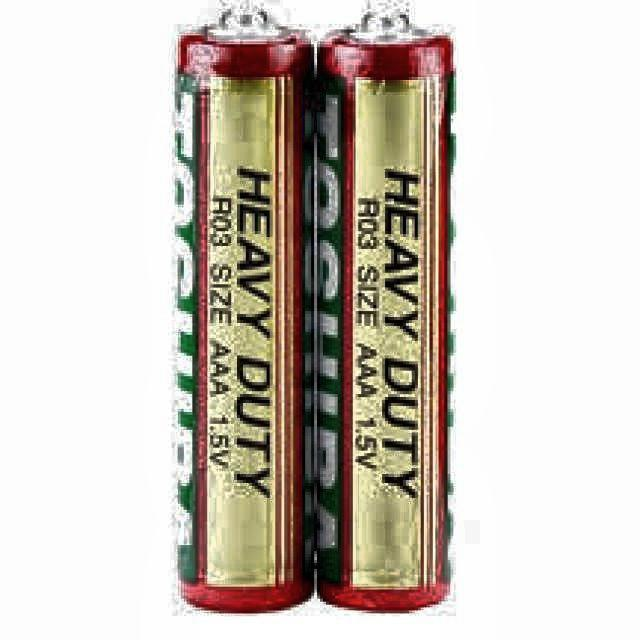battery: (314, 3, 453, 612), (178, 5, 311, 607)
